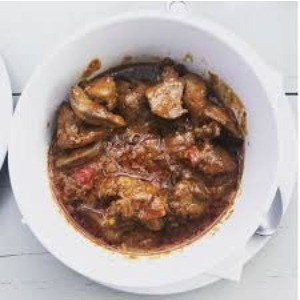liver_brain food: (72, 90, 231, 211)
